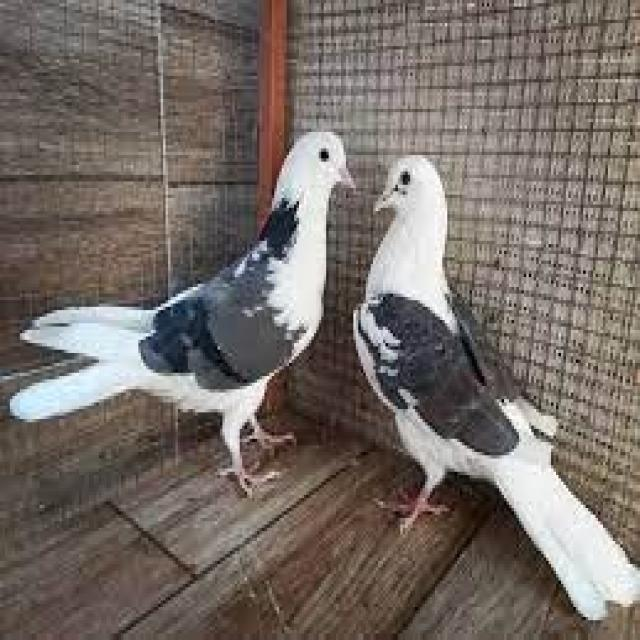bird: (350, 145, 640, 626), (3, 124, 356, 504)
